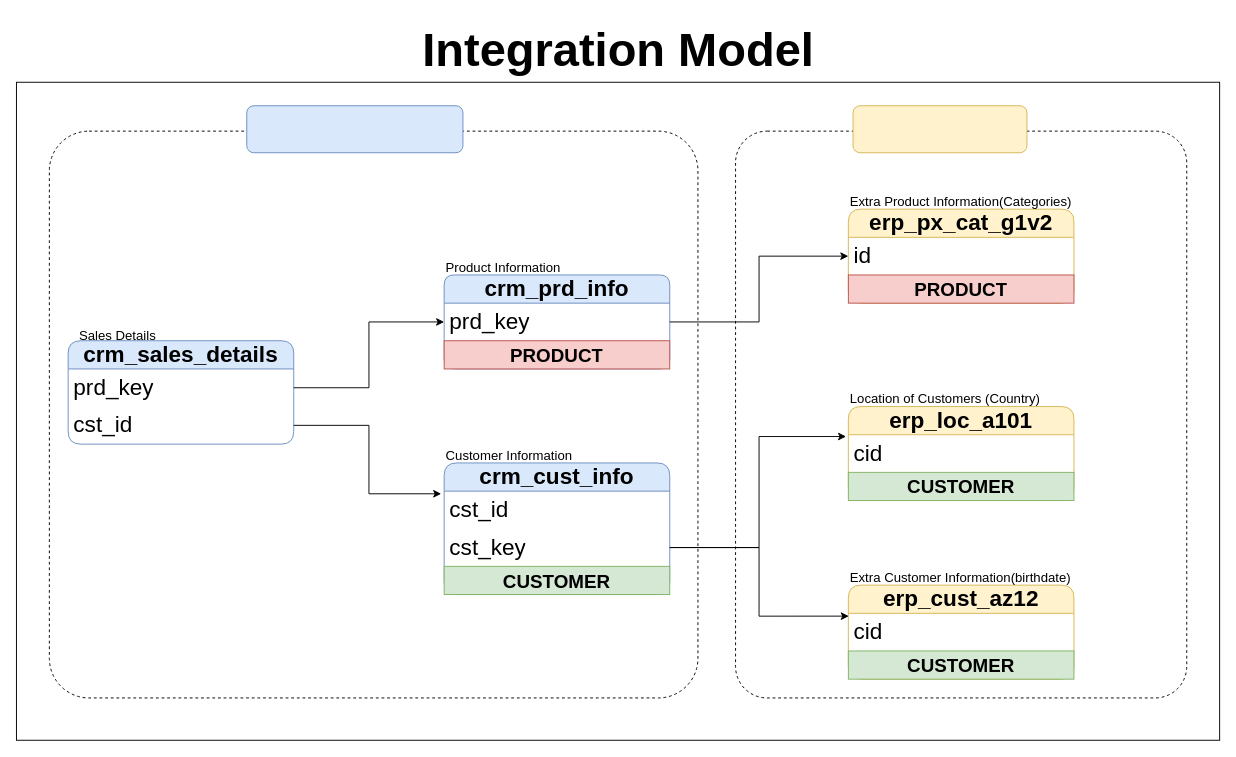
Some shapes in this 1236 by 757 pixel diagram are drawn without their labels. The centre of each missing label's shape, as x and y in pixels:
"CRM" goes at (354,129).
"ERP" goes at (939,129).
